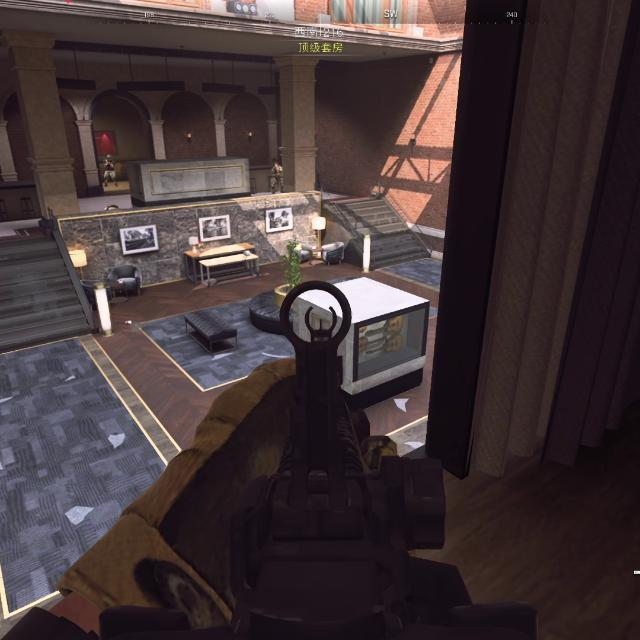MW2_body: (103, 155, 120, 188), (269, 162, 284, 195)
